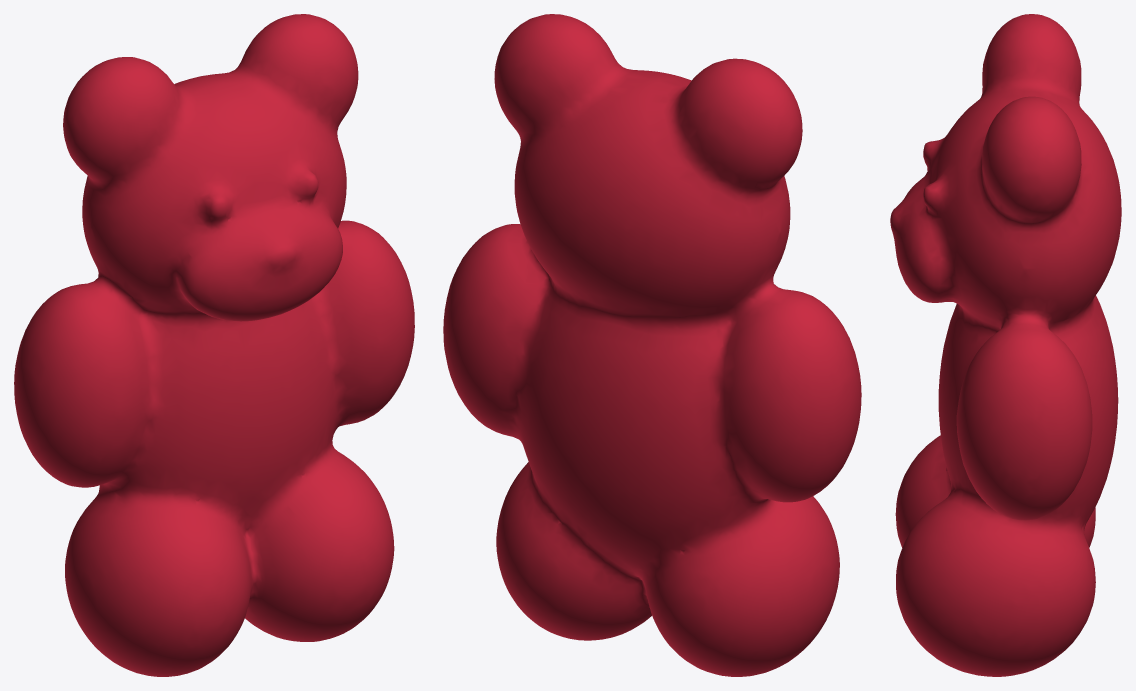
The model's file is gummy-bear.glb.
3 renders of one model, left to right at view 1: azimuth 30°, elevation 25°; view 2: azimuth 150°, elevation 25°; view 3: azimuth 270°, elevation 25°, orthographic. The views are drawn at different scales.
Visible parts, largest first — view 1: GummyBear; view 2: GummyBear; view 3: GummyBear.
Boxes of the visible parts, <box> form: GummyBear: <box>14,14,414,676</box>; GummyBear: <box>443,14,861,676</box>; GummyBear: <box>890,14,1121,676</box>.
Size of the model in its own units: 0.1174 by 0.1753 by 0.0639.
